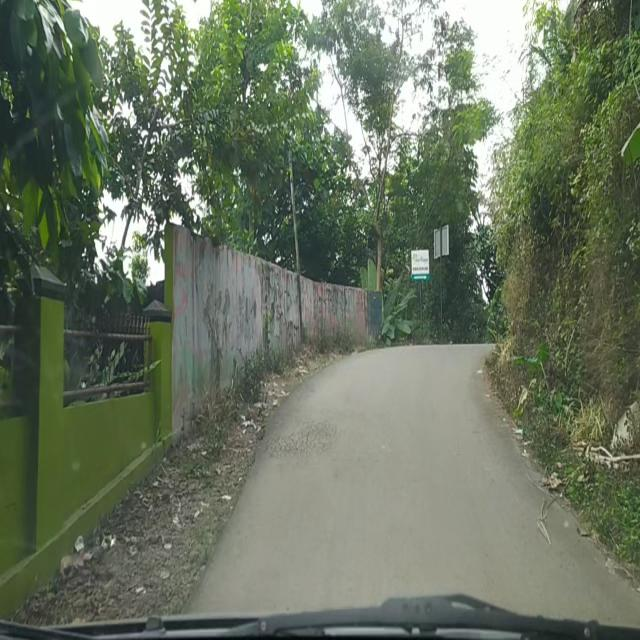Drain Hole: (262, 414, 338, 458)
